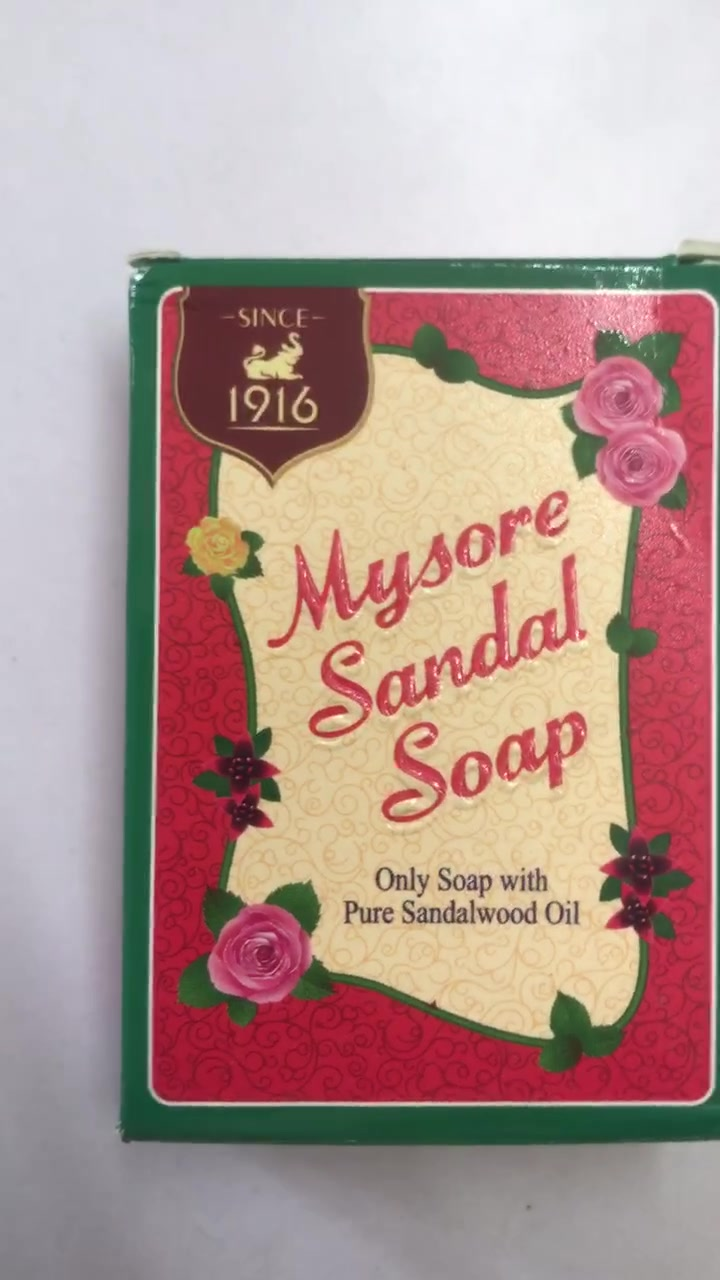mysore sandal soap: (128, 250, 720, 1136)
